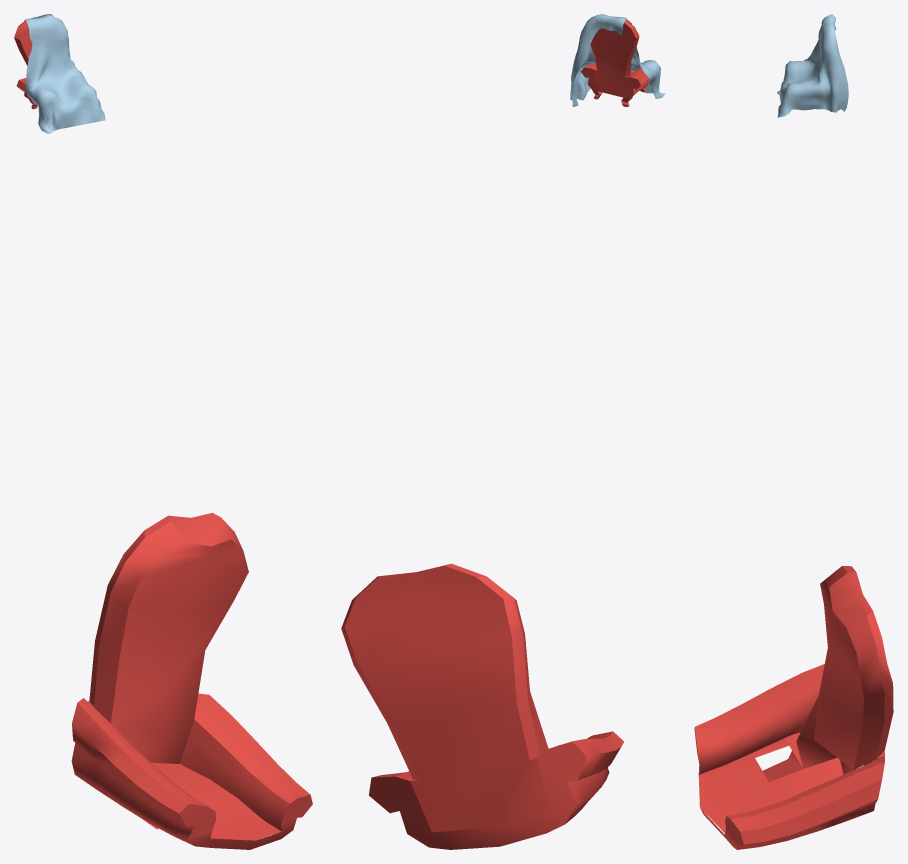
File: ChairCloth.fbx
The picture shows the model from 3 angles, left to right: view 1: azimuth 30°, elevation 25°; view 2: azimuth 150°, elevation 25°; view 3: azimuth 270°, elevation 25°; orthographic projection. The views are drawn at different scales.
Parts seen in each view (by area): view 1: Chair cloth (failed), Cloth cover, Chair; view 2: Chair cloth (failed), Chair, Cloth cover; view 3: Chair cloth (failed), Cloth cover.
Part boxes in pixels (x1,y1,x2,y2): Chair cloth (failed): [71, 513, 312, 849]; Cloth cover: [24, 14, 105, 133]; Chair: [14, 20, 37, 109]; Chair cloth (failed): [341, 563, 623, 849]; Chair: [581, 20, 649, 106]; Cloth cover: [570, 14, 665, 106]; Chair cloth (failed): [694, 566, 893, 849]; Cloth cover: [777, 14, 848, 117].
Bounding box in the file's own units: 579 × 1807 × 437.
